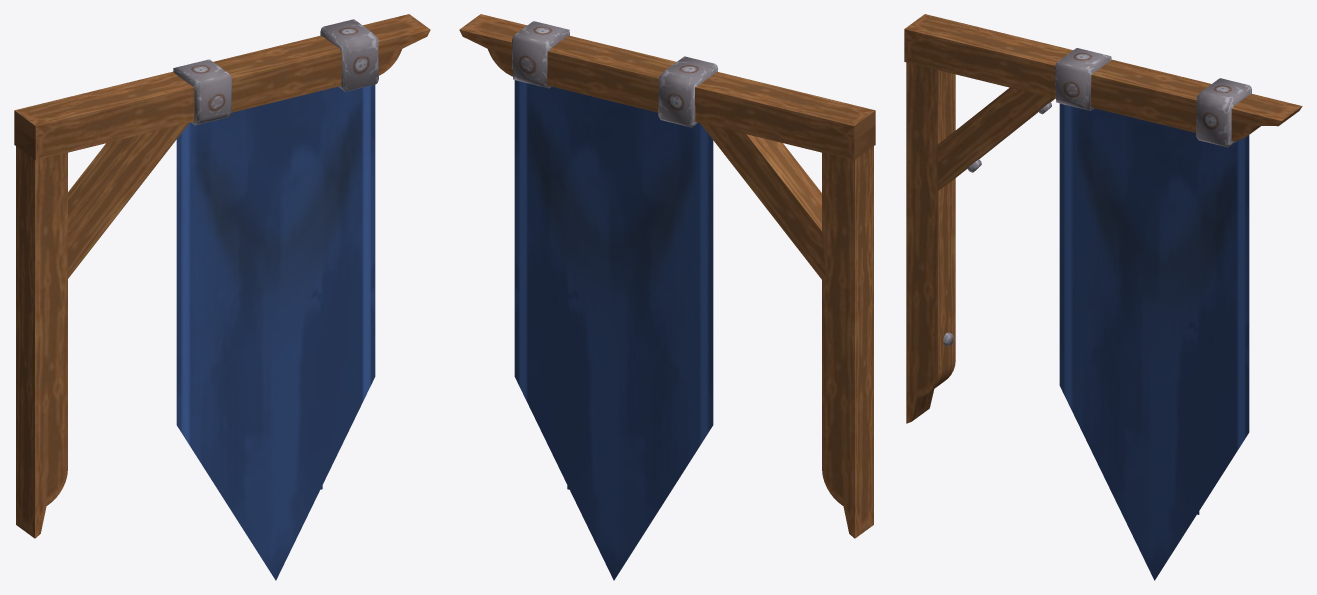
The model's file is Banner_2.glb.
3 views of the same model, side by side, from view 1: azimuth 30°, elevation 25°; view 2: azimuth 150°, elevation 25°; view 3: azimuth 330°, elevation 25° (orthographic). The views are drawn at different scales.
Visible parts, largest first — view 1: Banner_2; view 2: Banner_2; view 3: Banner_2.
Part boxes in pixels (bbox=[...]): Banner_2: bbox=[14, 14, 430, 580]; Banner_2: bbox=[459, 14, 875, 580]; Banner_2: bbox=[904, 14, 1302, 580].
Bounding box in the file's own units: 1.61 × 2.08 × 0.1906.
Materials: 3 (3 with a texture image).
